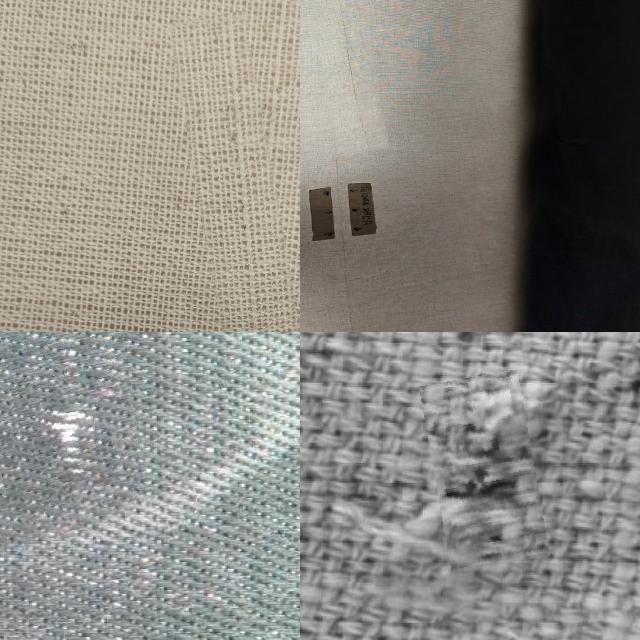other: (425, 374, 541, 570)
stains: (193, 12, 300, 332), (0, 332, 143, 529), (300, 0, 371, 156)
